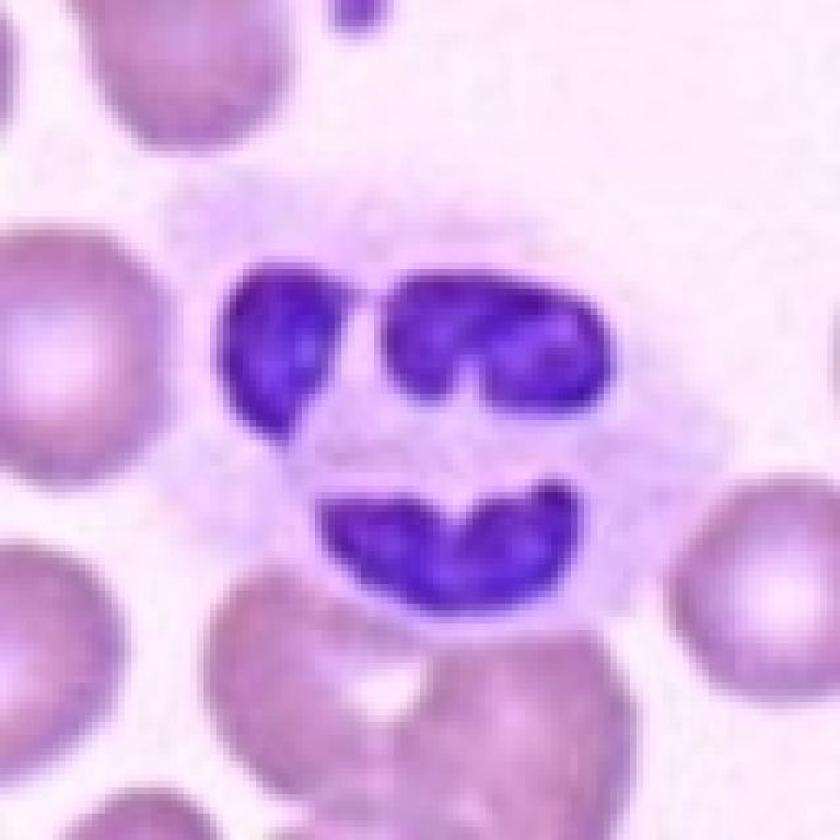neutrophil: (164, 180, 733, 651)
